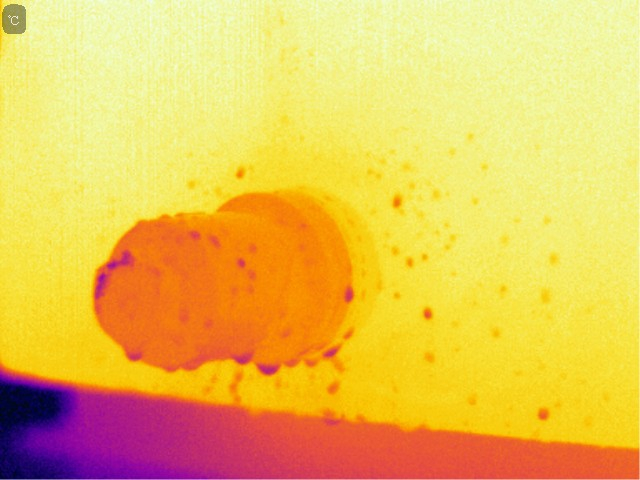Water: (234, 242, 262, 283), (318, 343, 346, 359), (231, 346, 252, 367), (340, 324, 361, 345), (254, 361, 279, 378), (160, 357, 181, 376), (122, 347, 146, 363), (342, 284, 356, 307), (325, 379, 345, 394), (184, 358, 205, 372), (302, 354, 319, 371), (207, 234, 224, 250), (280, 355, 299, 369), (535, 404, 551, 420), (423, 302, 435, 321), (189, 228, 203, 242), (389, 197, 403, 209), (235, 165, 246, 177)
